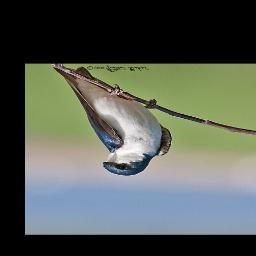Swallow: (52, 65, 173, 177)
